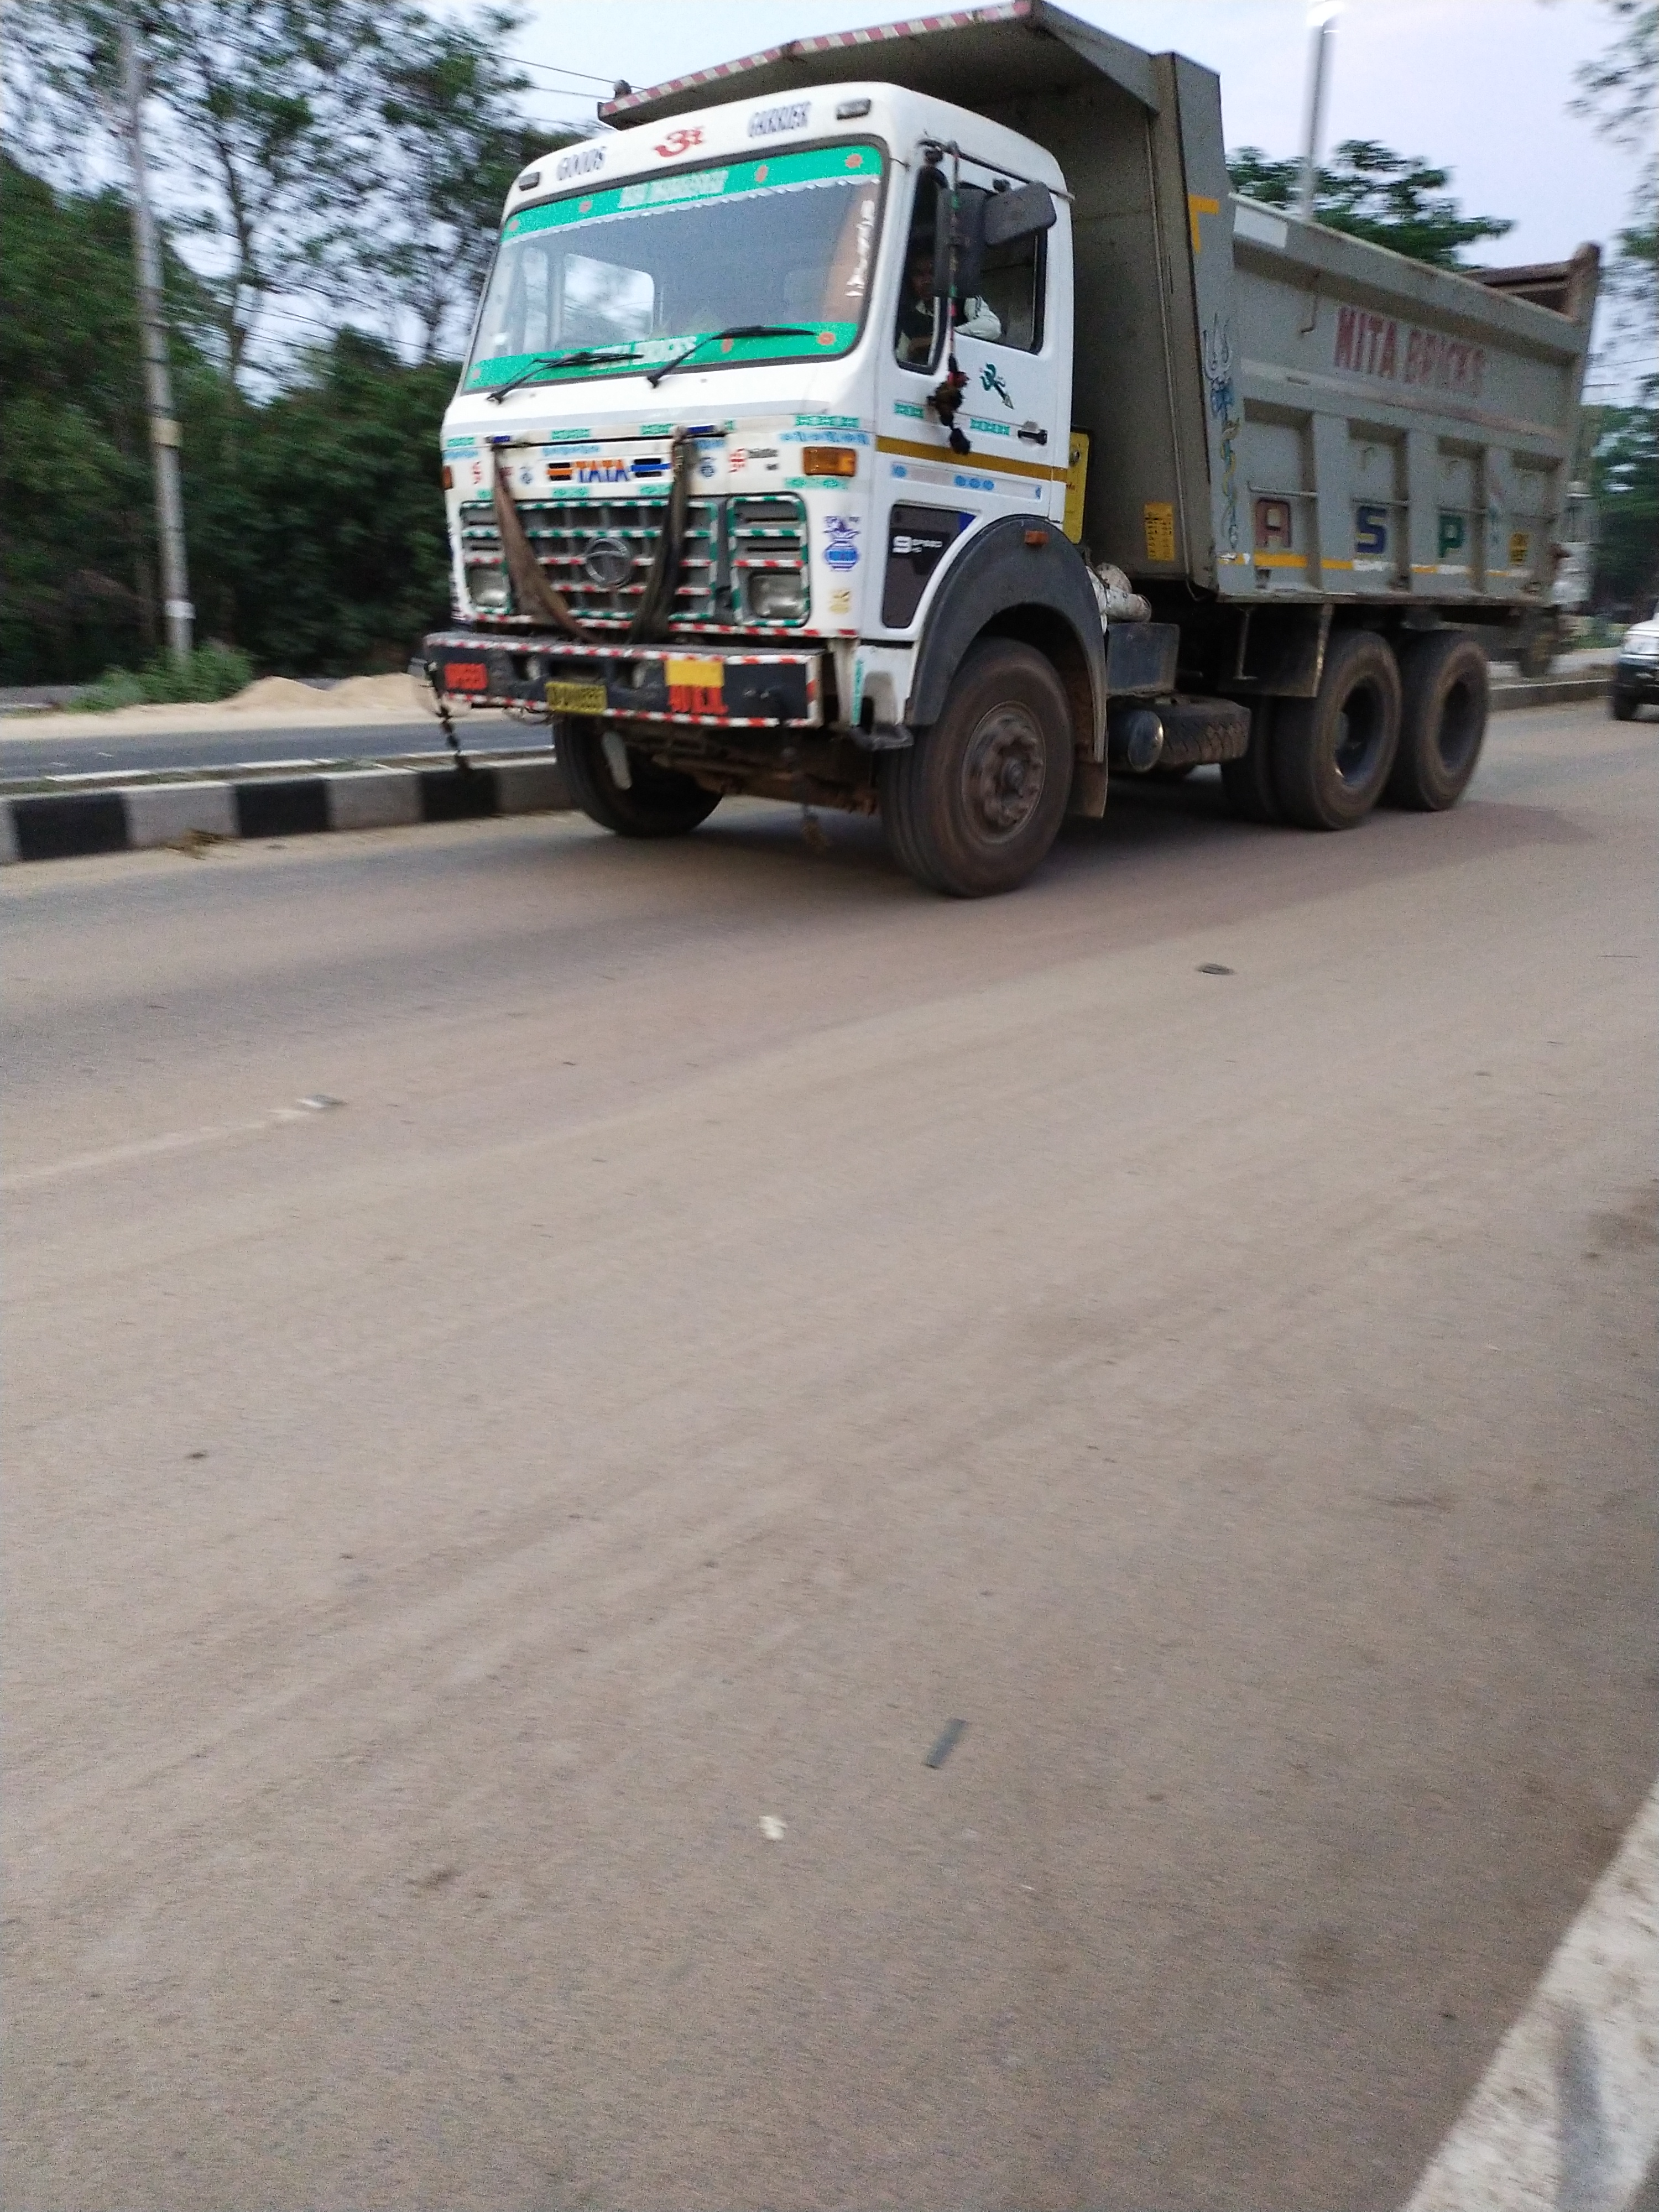truck: (404, 0, 1605, 907)
